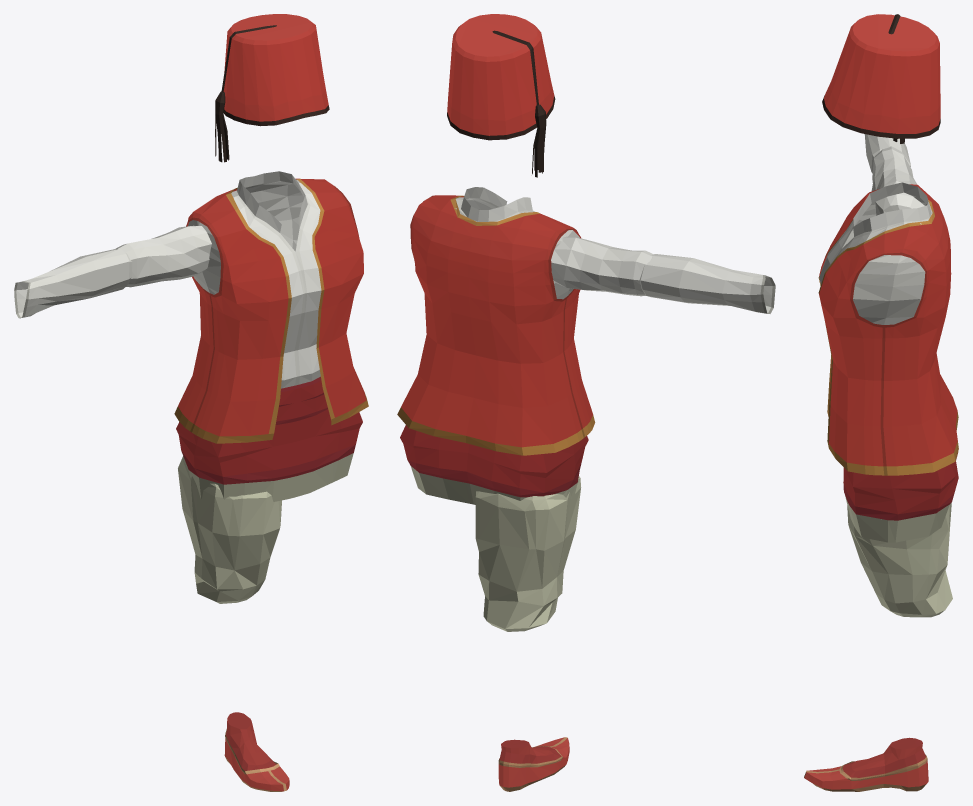
The model's file is desertMerchantFemale.glb.
The picture shows the model from 3 angles, left to right: view 1: azimuth 30°, elevation 25°; view 2: azimuth 150°, elevation 25°; view 3: azimuth 270°, elevation 25°; orthographic projection. The views are drawn at different scales.
Parts seen in each view (by area): view 1: desertMerchantBodyFemale, desertMerchantFezFemale, desertMerchantLegsFemale, desertMerchantLowerArmsFemale, desertMerchantUpperArmsFemale, desertMerchantShoesFemale; view 2: desertMerchantBodyFemale, desertMerchantFezFemale, desertMerchantLegsFemale, desertMerchantLowerArmsFemale, desertMerchantUpperArmsFemale, desertMerchantShoesFemale; view 3: desertMerchantBodyFemale, desertMerchantFezFemale, desertMerchantLegsFemale, desertMerchantShoesFemale, desertMerchantUpperArmsFemale, desertMerchantLowerArmsFemale.
Part boxes in pixels (<box>): desertMerchantBodyFemale: <box>174,171,368,501</box>; desertMerchantFezFemale: <box>215,14,329,162</box>; desertMerchantLegsFemale: <box>178,456,281,603</box>; desertMerchantLowerArmsFemale: <box>14,248,132,318</box>; desertMerchantUpperArmsFemale: <box>115,225,211,287</box>; desertMerchantShoesFemale: <box>224,712,289,791</box>; desertMerchantBodyFemale: <box>397,187,595,506</box>; desertMerchantFezFemale: <box>447,14,555,177</box>; desertMerchantLegsFemale: <box>475,476,581,631</box>; desertMerchantLowerArmsFemale: <box>639,254,775,313</box>; desertMerchantUpperArmsFemale: <box>551,236,653,296</box>; desertMerchantShoesFemale: <box>498,737,569,791</box>; desertMerchantBodyFemale: <box>818,182,958,542</box>; desertMerchantFezFemale: <box>822,14,940,143</box>; desertMerchantLegsFemale: <box>847,503,952,617</box>; desertMerchantShoesFemale: <box>804,737,928,791</box>; desertMerchantUpperArmsFemale: <box>871,146,924,215</box>; desertMerchantLowerArmsFemale: <box>864,134,910,173</box>.
Bounding box in the file's own units: 0.9912 × 2.02 × 0.3664.
